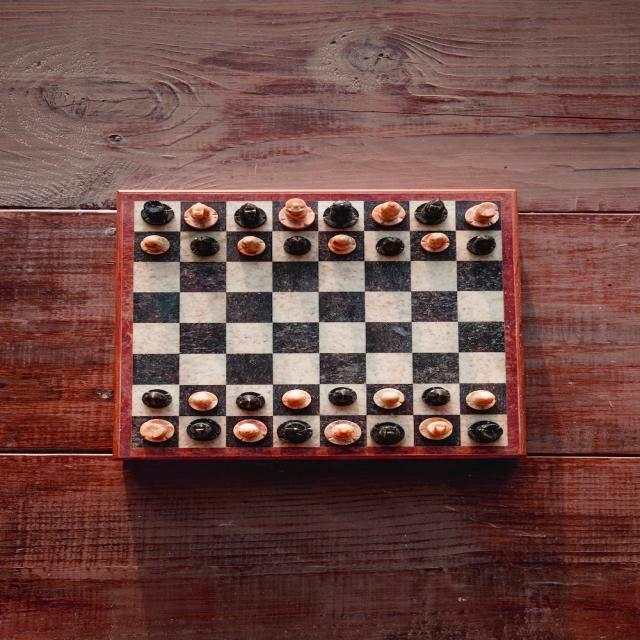chess-table-corners: (118, 436, 144, 452), (123, 194, 145, 210), (499, 438, 521, 452), (492, 195, 506, 208)
